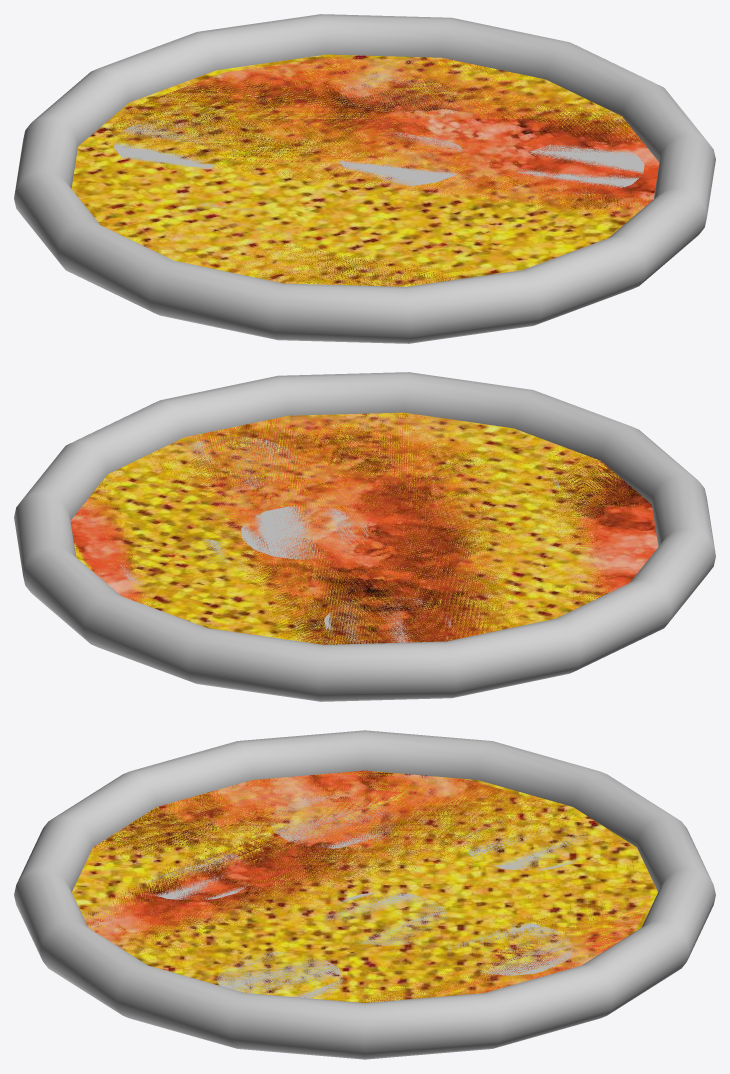
The model's file is pizza1.dae.
3 views of the same model, one above another, from view 1: azimuth 30°, elevation 25°; view 2: azimuth 150°, elevation 25°; view 3: azimuth 270°, elevation 25° (orthographic).
Parts seen in each view (by area): view 1: 円 (×6), ルートパート; view 2: 円 (×5), ルートパート; view 3: 円 (×8), ルートパート.
Part boxes in pixels (left/top/right/bottom): 円 (×6): left=71, top=54, right=659, bottom=286; ルートパート: left=14, top=14, right=715, bottom=343; 円 (×5): left=70, top=412, right=658, bottom=644; ルートパート: left=14, top=372, right=715, bottom=701; 円 (×8): left=72, top=770, right=657, bottom=1002; ルートパート: left=14, top=730, right=715, bottom=1059.
Size of the model in its own units: 248 by 20 by 248.
